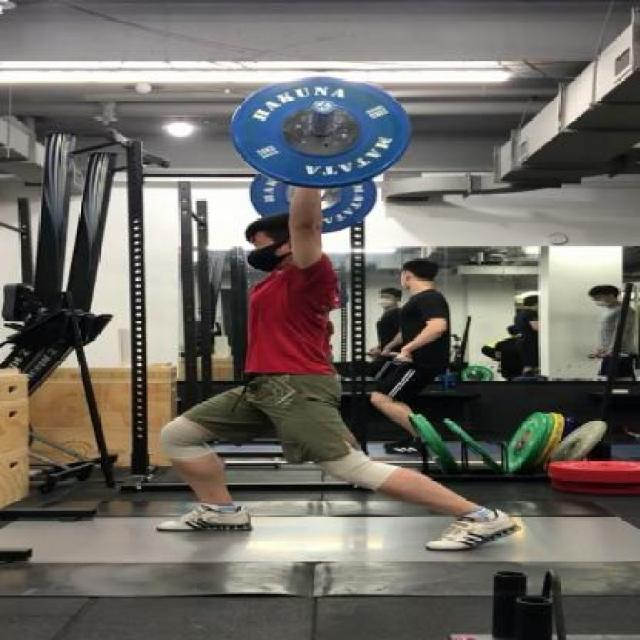Barbell: (312, 98, 340, 117)
